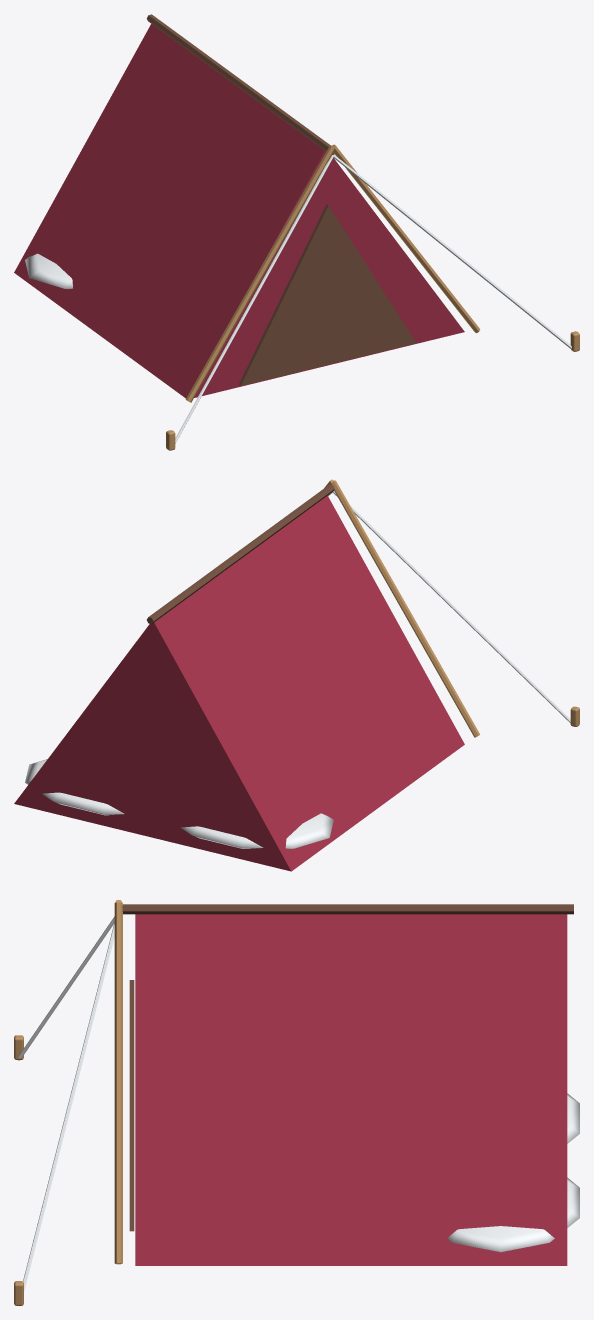
Rendered from alpine-snow-village-winter-canvas-tent-f3d8ee2f__19827.glb.
The picture shows the model from 3 angles, top to bottom: view 1: azimuth 30°, elevation 25°; view 2: azimuth 150°, elevation 25°; view 3: azimuth 270°, elevation 25°; orthographic projection. The views are drawn at different scales.
Visible parts, largest first — view 1: winter-canvas-tent-berry, winter-canvas-tent-wood, winter-canvas-tent-oak, winter-canvas-tent-snow; view 2: winter-canvas-tent-berry, winter-canvas-tent-snow, winter-canvas-tent-oak, winter-canvas-tent-wood; view 3: winter-canvas-tent-berry, winter-canvas-tent-wood, winter-canvas-tent-snow, winter-canvas-tent-oak.
Part boxes in pixels (left/top/right/bottom): winter-canvas-tent-berry: left=14, top=24, right=464, bottom=398; winter-canvas-tent-wood: left=146, top=14, right=415, bottom=385; winter-canvas-tent-oak: left=166, top=144, right=579, bottom=450; winter-canvas-tent-snow: left=25, top=154, right=571, bottom=443; winter-canvas-tent-berry: left=14, top=495, right=464, bottom=871; winter-canvas-tent-snow: left=25, top=491, right=570, bottom=849; winter-canvas-tent-oak: left=324, top=479, right=579, bottom=737; winter-canvas-tent-wood: left=147, top=484, right=334, bottom=624; winter-canvas-tent-berry: left=135, top=914, right=567, bottom=1265; winter-canvas-tent-wood: left=122, top=904, right=573, bottom=1231; winter-canvas-tent-snow: left=18, top=916, right=579, bottom=1291; winter-canvas-tent-oak: left=14, top=900, right=122, bottom=1305.
Bounding box in the file's own units: 3.56 × 1.87 × 3.41.
